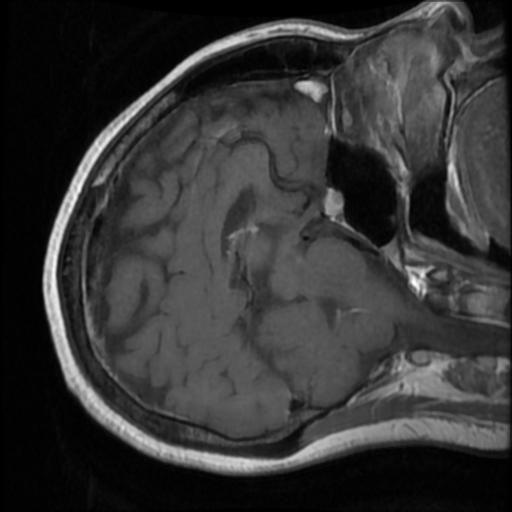pituitary tumour: (324, 188, 344, 222)
